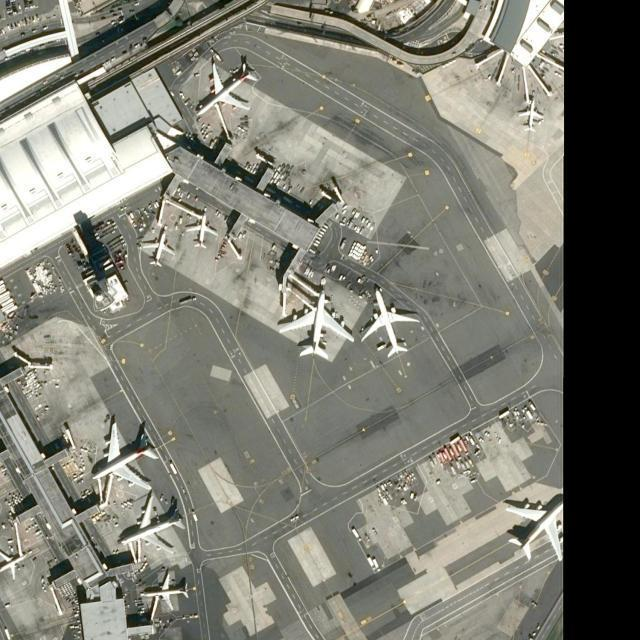Aircraft: (277, 284, 355, 362), (87, 416, 159, 489), (501, 490, 565, 564), (118, 493, 188, 551), (361, 285, 417, 357), (195, 55, 256, 113), (140, 569, 190, 613), (141, 227, 175, 267), (184, 212, 217, 250), (0, 546, 29, 580), (519, 96, 543, 132)
